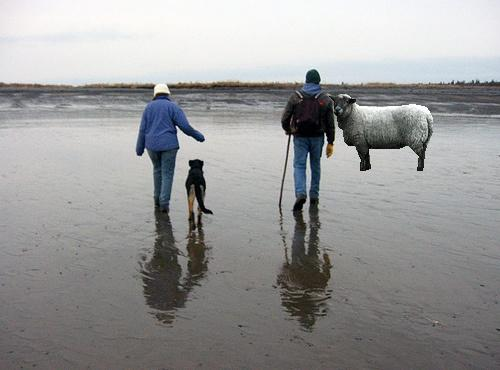tampered: (328, 94, 433, 171)
